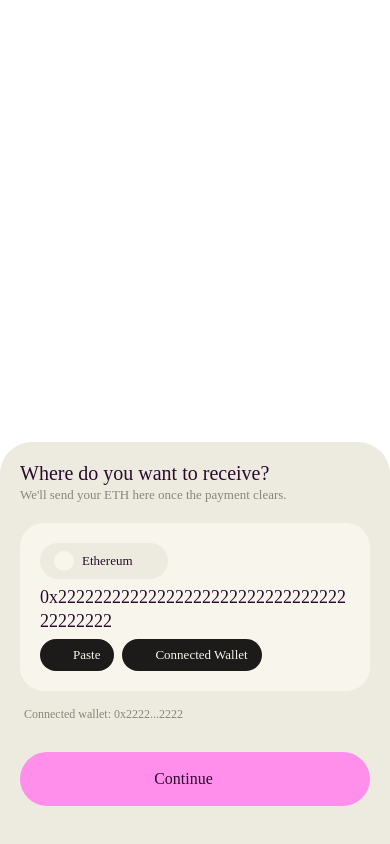
Test case: MomoSheet › onramp — "where do you want to receive" step › with a wallet already connected, pre-fills the address and lets Continue through immediately
(page scrolled)
Expected: the text box with test id "momo-receive-address-input" holds "0x2222222222222222222222222222222222222222", x1=40 y1=585 x2=350 y2=633
Expected: the text "Connected wallet: 0x2222...2222" is shown, x1=24 y1=707 x2=183 y2=721
Click the button with test id "momo-receive-continue" at coordinates (195, 779), box x1=20 y1=752 x2=370 y2=806
(page scrolled)
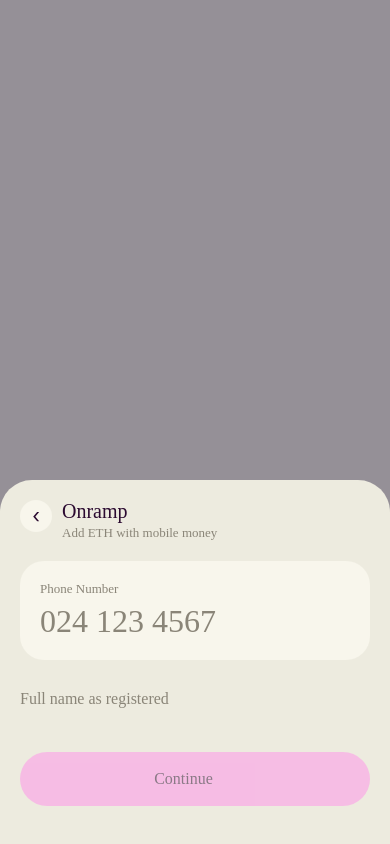
Result: the field with test id "momo-phone-input" is shown at x1=40 y1=603 x2=350 y2=640
